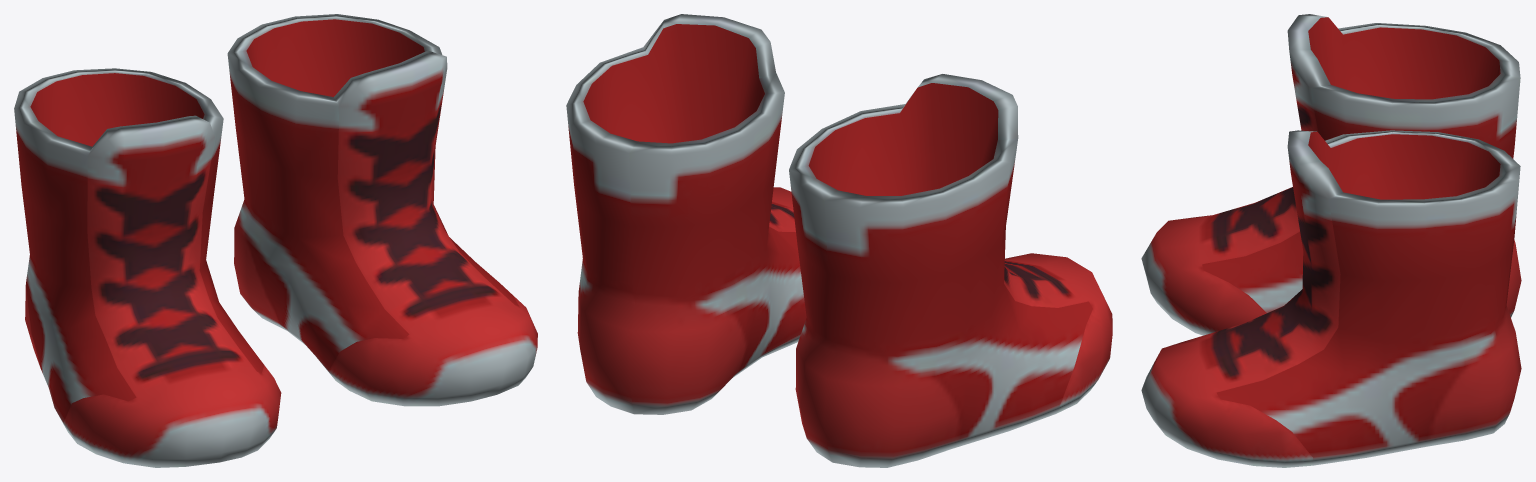
File: ShoesKneeRing0.glb
3 views of the same model, side by side, from view 1: azimuth 30°, elevation 25°; view 2: azimuth 150°, elevation 25°; view 3: azimuth 270°, elevation 25° (orthographic). The views are drawn at different scales.
Visible parts, largest first — view 1: Body__mShoes; view 2: Body__mShoes; view 3: Body__mShoes.
Boxes of the visible parts, x1,y1,x2,y2 form: Body__mShoes: (14,14,537,467); Body__mShoes: (566,14,1112,467); Body__mShoes: (1141,14,1521,467).
Bounding box in the file's own units: 3.34 × 2.13 × 2.62.
1 material, 1 textured.
